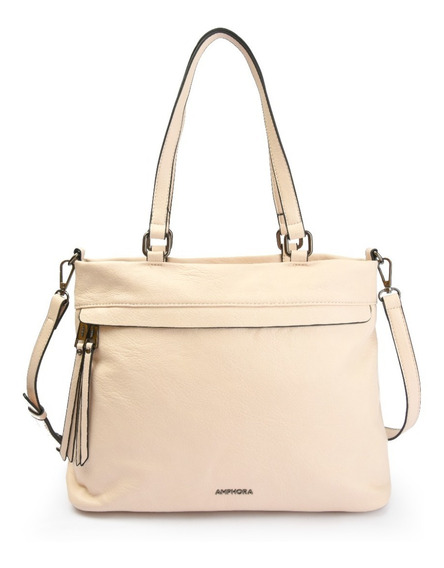cartera: (27, 28, 423, 519)
